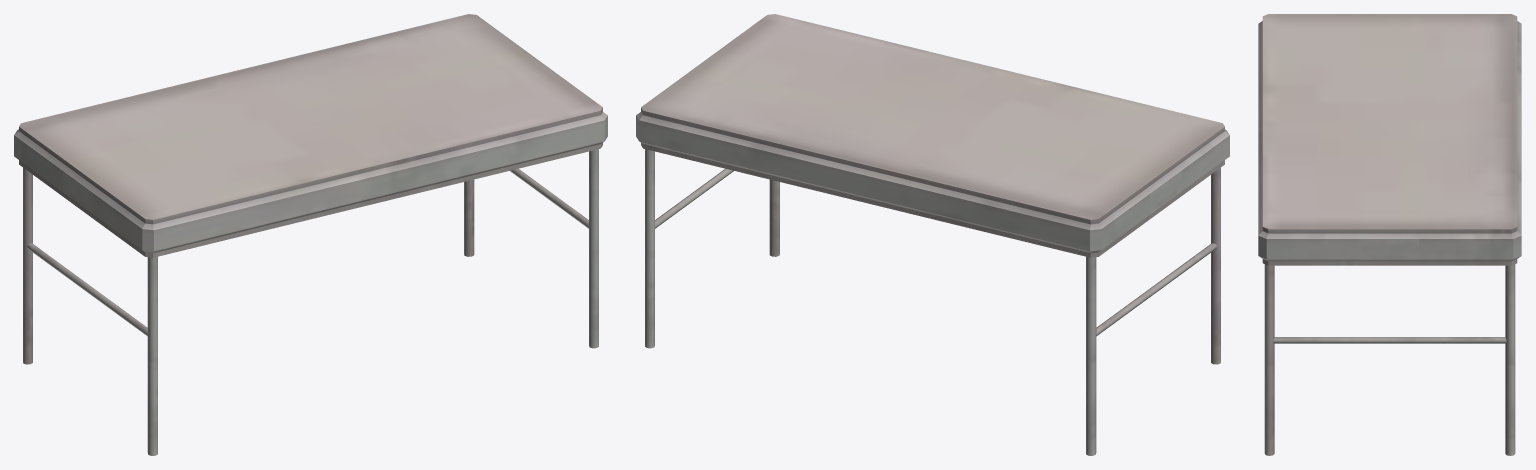
The model's file is ss-promo-table.lod1.glb.
The picture shows the model from 3 angles, left to right: view 1: azimuth 30°, elevation 25°; view 2: azimuth 150°, elevation 25°; view 3: azimuth 270°, elevation 25°; orthographic projection. The views are drawn at different scales.
Visible parts, largest first — view 1: general_store_furniture_simple_table_general_store_furniture; view 2: general_store_furniture_simple_table_general_store_furniture; view 3: general_store_furniture_simple_table_general_store_furniture.
Boxes of the visible parts, x1=… form: general_store_furniture_simple_table_general_store_furniture: x1=14, y1=14, x2=607, y2=455; general_store_furniture_simple_table_general_store_furniture: x1=636, y1=14, x2=1229, y2=455; general_store_furniture_simple_table_general_store_furniture: x1=1258, y1=14, x2=1521, y2=455.
Size of the model in its own units: 2.19 by 1.07 by 1.11.
Materials: 1 (1 with a texture image).
